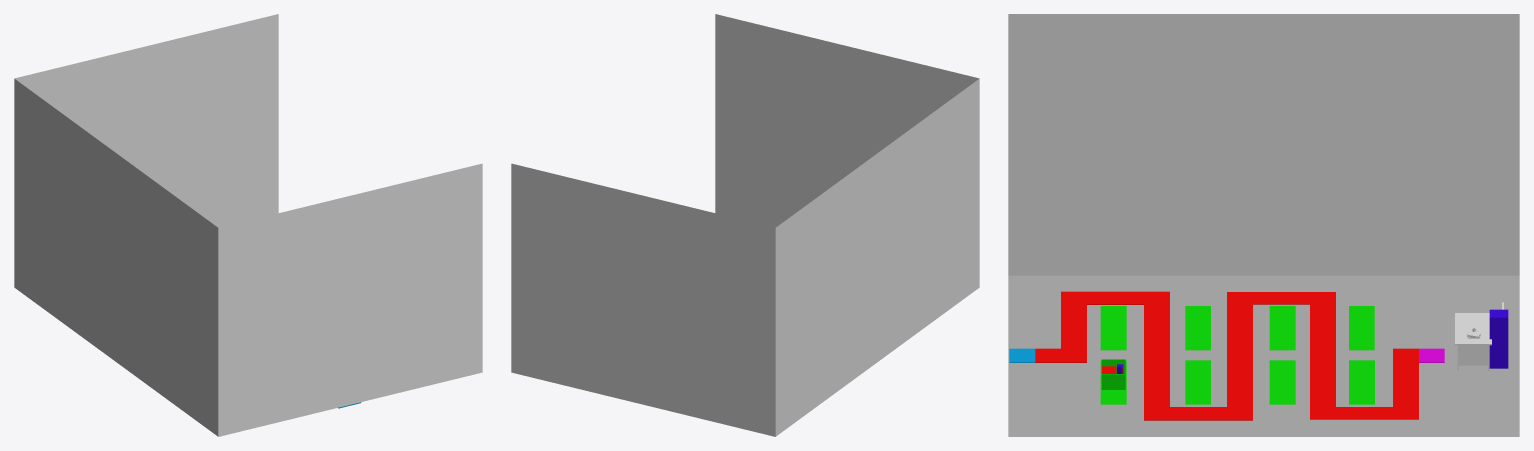
Rendered from texte te jolo 1.fbx.
3 views of the same model, side by side, from view 1: azimuth 30°, elevation 25°; view 2: azimuth 150°, elevation 25°; view 3: azimuth 270°, elevation 25° (orthographic). The views are drawn at different scales.
Visible parts, largest first — view 1: Paredes; view 2: Paredes; view 3: Paredes, Chao Geral, Caminho, Area dos defensores PLACEHOLDER, Mesa del BOSS, Ref Personagem.001, Mesa dos defensores TRUE MT FODA, Area dos defensores PLACEHOLDER.001.
Part boxes in pixels (box(x1,y1,x2,y2)): Paredes: box(14, 14, 482, 436); Paredes: box(511, 14, 979, 436); Paredes: box(1008, 14, 1519, 275); Chao Geral: box(1008, 275, 1519, 436); Caminho: box(1035, 291, 1418, 420); Area dos defensores PLACEHOLDER: box(1100, 306, 1374, 404); Mesa del BOSS: box(1455, 313, 1491, 370); Ref Personagem.001: box(1489, 309, 1508, 368); Mesa dos defensores TRUE MT FODA: box(1101, 359, 1125, 389); Area dos defensores PLACEHOLDER.001: box(1100, 360, 1126, 404).
Bounding box in the file's own units: 12198 × 9282 × 16328.
